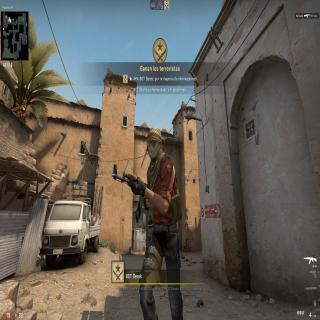T-Head: (146, 123, 162, 164)
